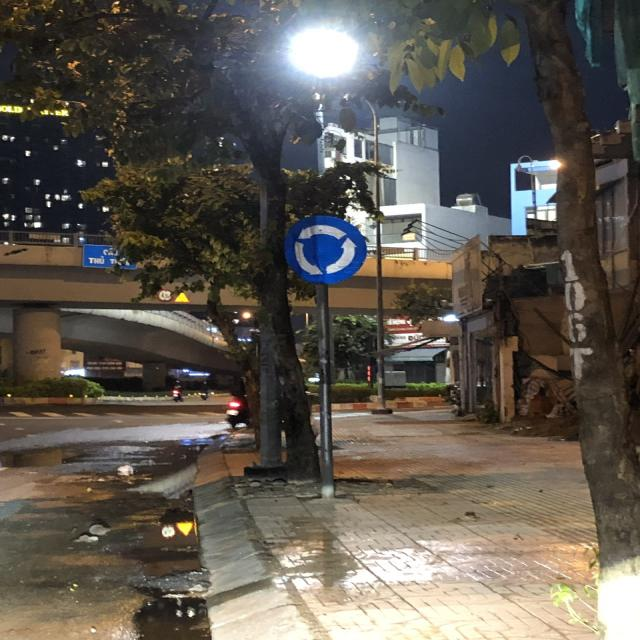Bien bao noi giao nhau chay theo vong xuyen: (279, 211, 371, 285)
